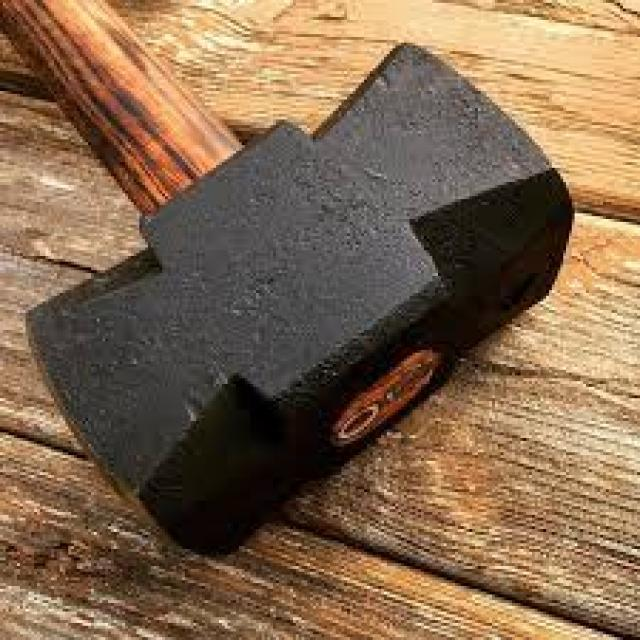hammer: (0, 0, 589, 575)
